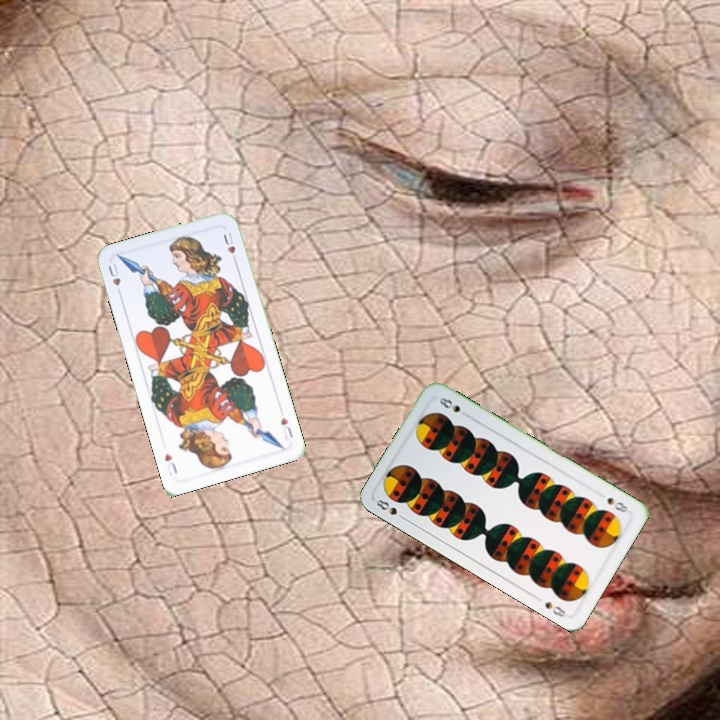HU: (104, 258, 124, 299), (277, 413, 295, 442)
S8: (372, 495, 409, 523), (603, 493, 631, 515)
